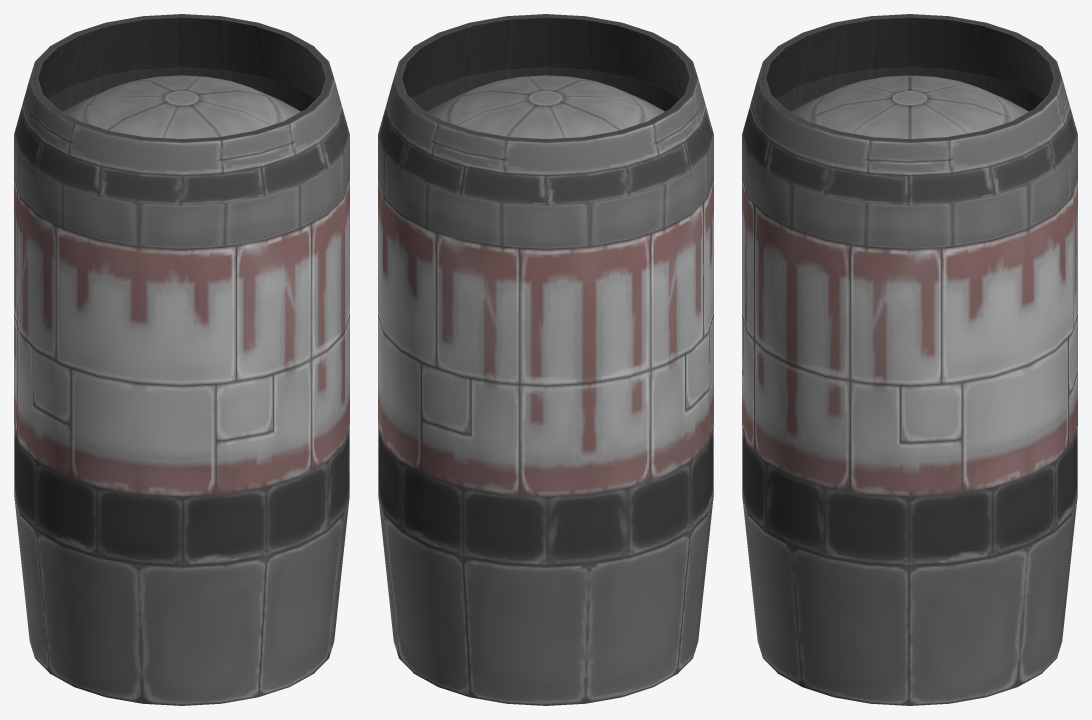
File: Diamant_Rita.dae
3 views of the same model, side by side, from view 1: azimuth 30°, elevation 25°; view 2: azimuth 150°, elevation 25°; view 3: azimuth 270°, elevation 25° (orthographic).
Visible parts, largest first — view 1: Rita, bottomFairing, topFairing; view 2: Rita, bottomFairing, topFairing; view 3: Rita, bottomFairing, topFairing.
Part boxes in pixels (<box>): Rita: <box>14,75,349,496</box>; bottomFairing: <box>14,427,349,705</box>; topFairing: <box>14,14,349,248</box>; Rita: <box>378,75,713,496</box>; bottomFairing: <box>378,427,713,705</box>; topFairing: <box>378,14,713,248</box>; Rita: <box>742,75,1077,496</box>; bottomFairing: <box>742,427,1077,705</box>; topFairing: <box>742,14,1077,248</box>.
Bounding box in the file's own units: 1.38 × 2.55 × 1.38.
